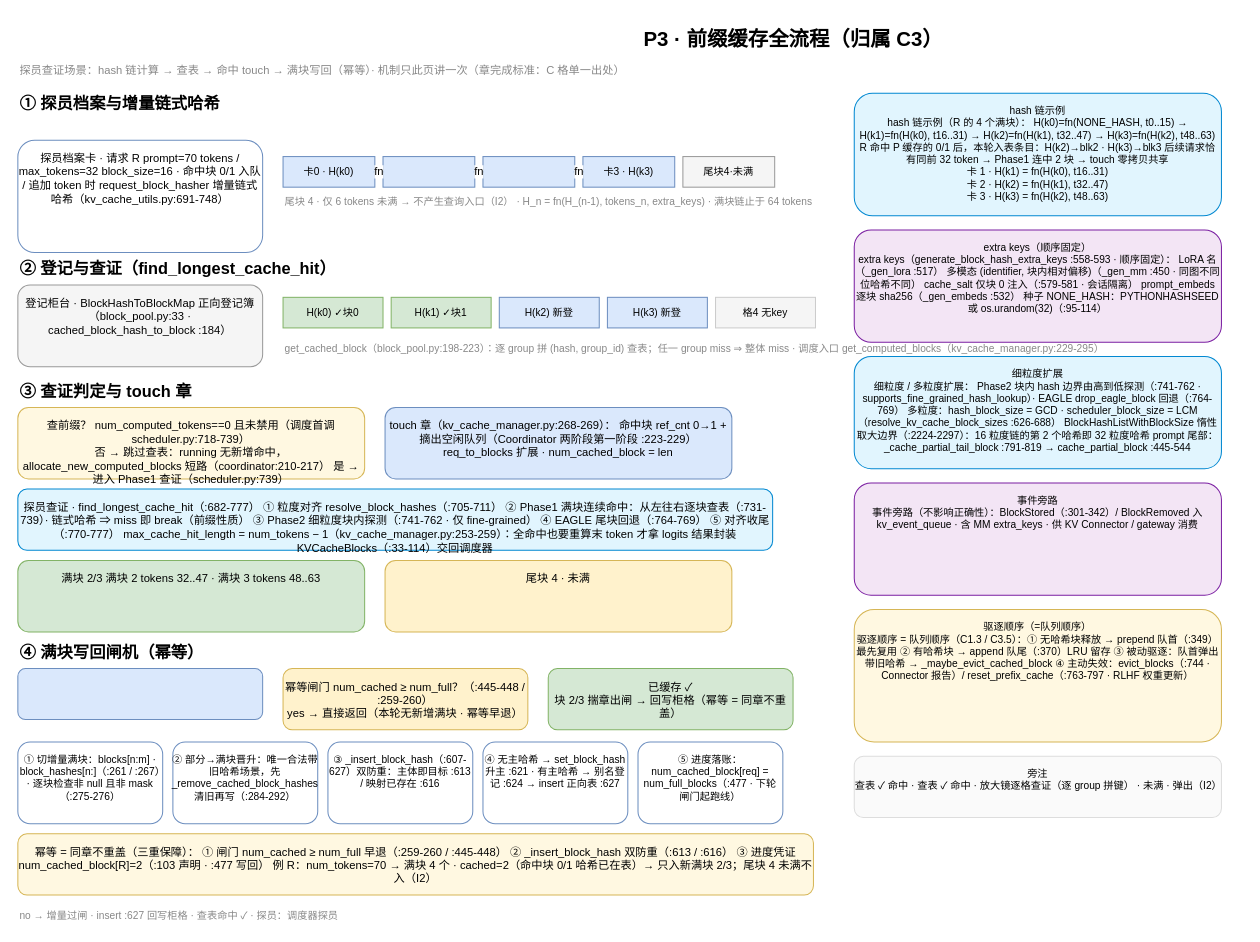
Some shapes in this 1260 by 942 pixel diagram are drawn without their labels. The shapes that lost their labels are listed below. From the top down, each one's box as (x1, y1, x2, y2) in pixels, then its label:
(382, 156, 475, 187): 卡1 · H(k1)
(482, 156, 575, 187): 卡2 · H(k2)
(17, 668, 263, 720): 写回闸机 cache_blocks （single_type_kv_cache_manager.py:427-477 → BlockPool :225-342）
